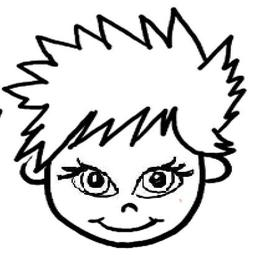ear: (11, 149, 49, 187), (200, 152, 240, 186)
eye: (56, 156, 121, 200), (130, 155, 194, 199)
mouth: (86, 217, 171, 233)
nose: (115, 199, 144, 214)
